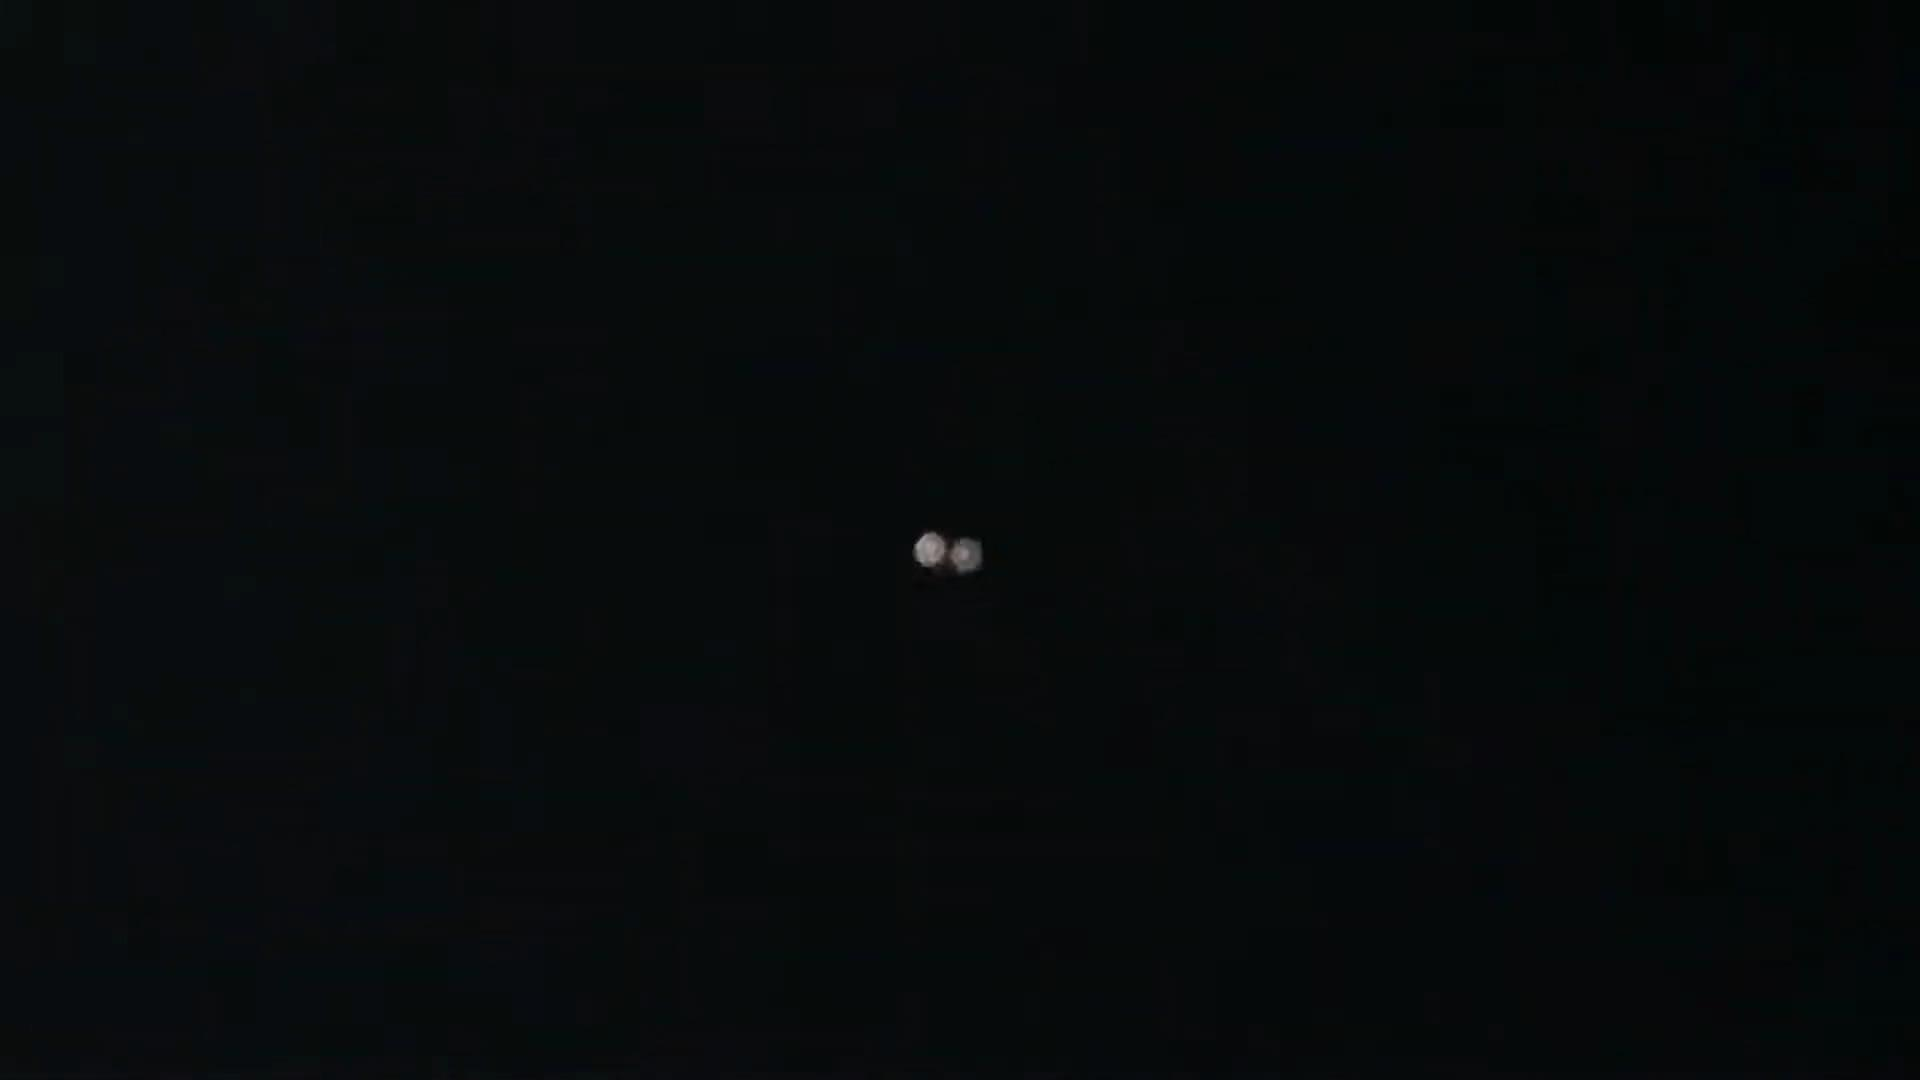Plane: (844, 517, 1048, 592)
